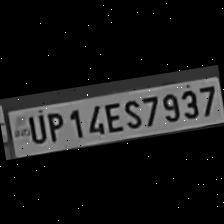1: (63, 104, 85, 140)
3: (176, 85, 200, 121)
4: (80, 100, 106, 138)
7: (196, 82, 220, 119), (137, 91, 161, 127)
9: (156, 88, 182, 124)
E: (100, 98, 123, 134)
P: (43, 107, 68, 143)
S: (119, 94, 144, 130)
U: (23, 109, 48, 145)
